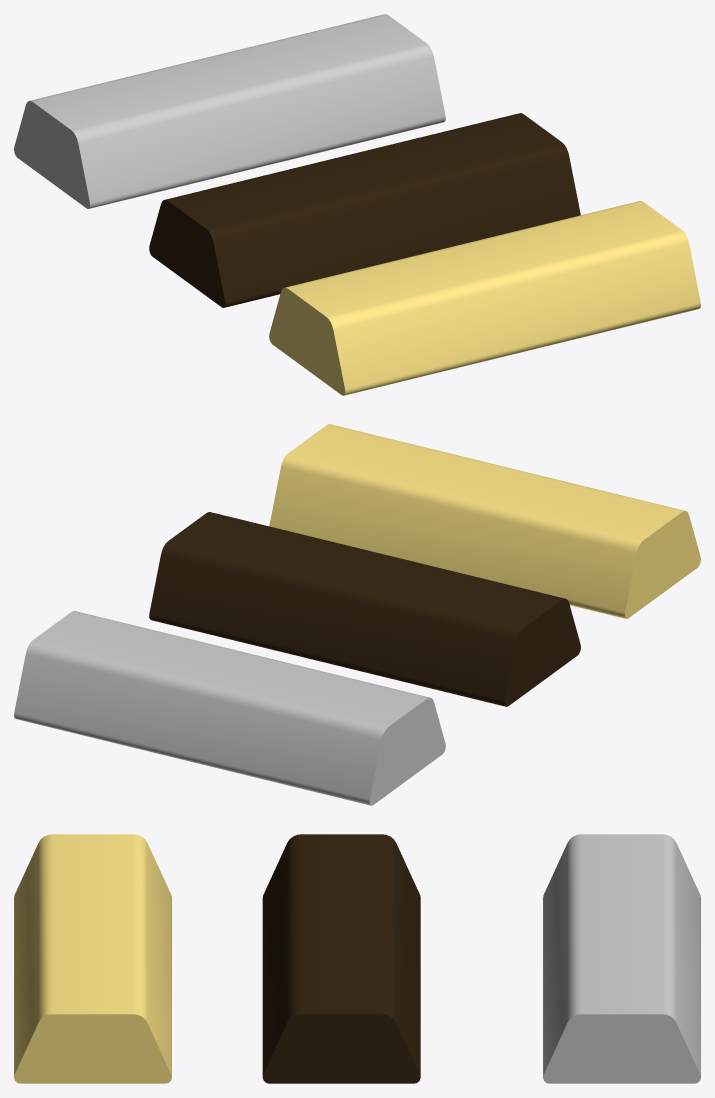
Rendered from yoba.fbx.
3 renders of one model, top to bottom at view 1: azimuth 30°, elevation 25°; view 2: azimuth 150°, elevation 25°; view 3: azimuth 270°, elevation 25°, orthographic. The views are drawn at different scales.
Visible parts, largest first — view 1: gold, silver, iron; view 2: iron, silver, gold; view 3: iron, silver, gold.
Boxes of the visible parts, box(x1,y1,x2,y2) form: gold: box(269, 201, 700, 395); silver: box(14, 14, 445, 208); iron: box(149, 113, 580, 307); iron: box(149, 512, 580, 706); silver: box(14, 611, 445, 805); gold: box(269, 424, 700, 618); iron: box(262, 834, 420, 1083); silver: box(543, 834, 700, 1083); gold: box(14, 834, 171, 1083).
Size of the model in its own units: 200 by 36.05 by 323.
